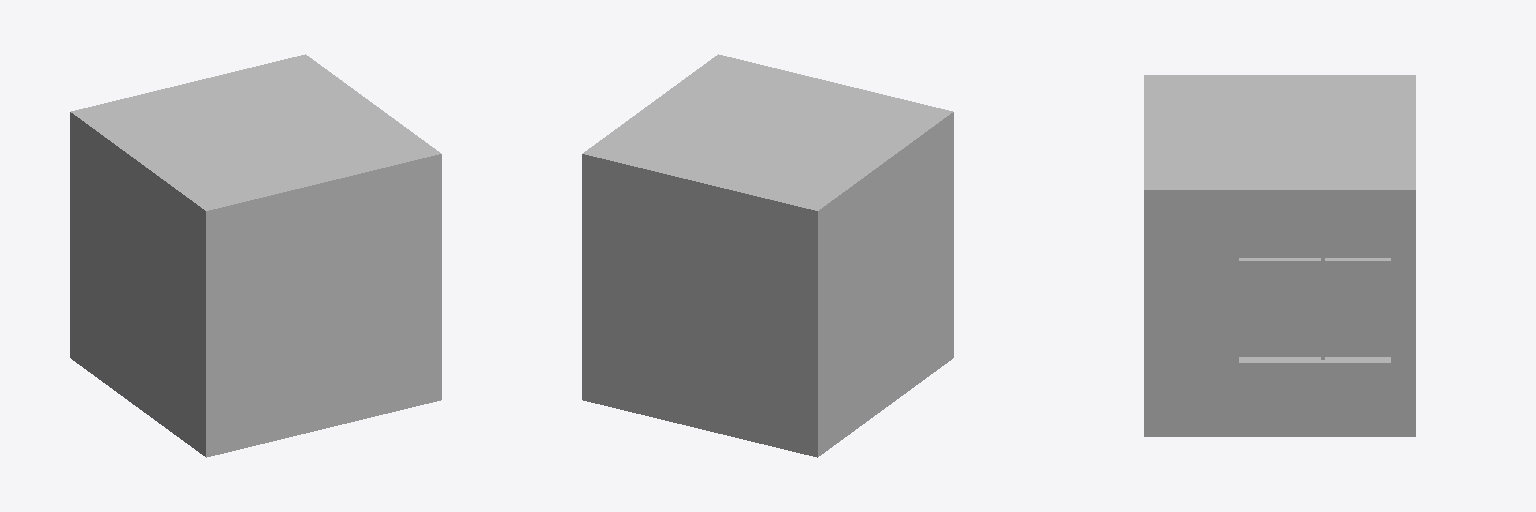
Rendered from tsimpoukh-wall.003.obj.
The picture shows the model from 3 angles: view 1: azimuth 30°, elevation 25°; view 2: azimuth 150°, elevation 25°; view 3: azimuth 270°, elevation 25°; orthographic projection.
Visible parts, largest first — view 1: tsimpoukh-wall.003; view 2: tsimpoukh-wall.003; view 3: tsimpoukh-wall.003.
Boxes of the visible parts, <box> form: tsimpoukh-wall.003: <box>70,54,441,457</box>; tsimpoukh-wall.003: <box>582,54,953,457</box>; tsimpoukh-wall.003: <box>1144,75,1415,436</box>.
Size of the model in its own units: 3 by 3 by 3.